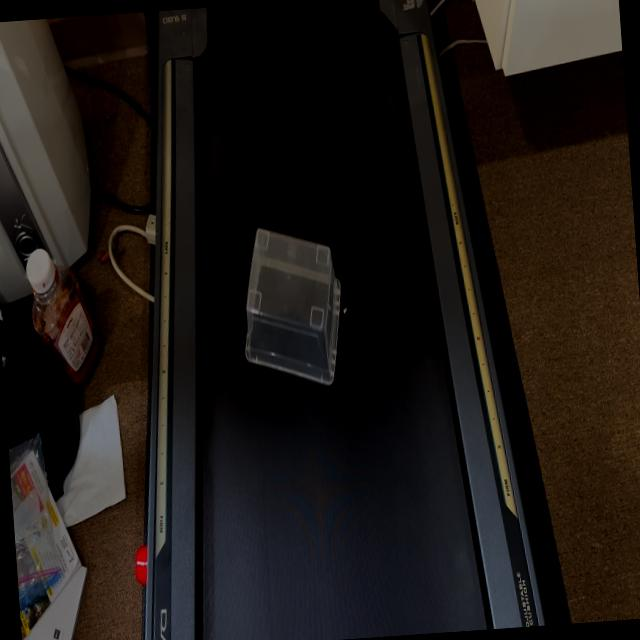Recycle: (238, 220, 348, 394)
